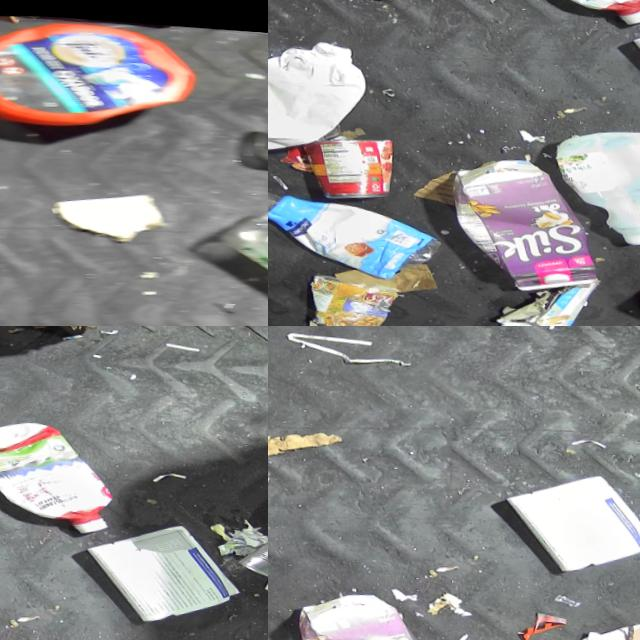can: (290, 125, 399, 206), (237, 497, 268, 590)
milk_jug: (268, 28, 381, 156)
non_white_jug: (0, 5, 201, 137), (289, 580, 447, 640)
